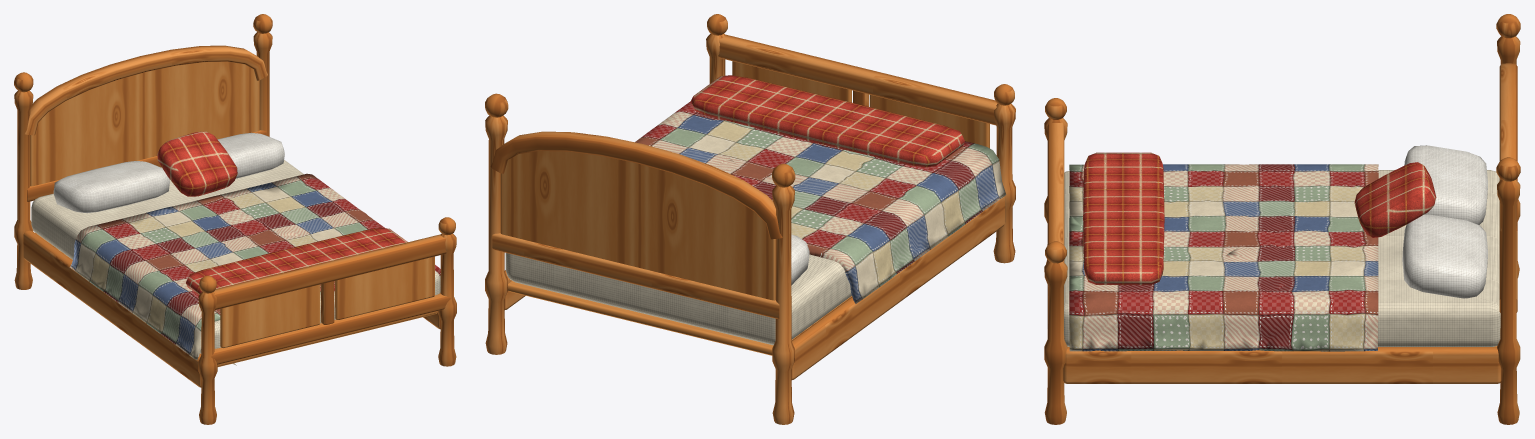
Rendered from double_bed.glb.
The picture shows the model from 3 angles, left to right: view 1: azimuth 30°, elevation 25°; view 2: azimuth 150°, elevation 25°; view 3: azimuth 270°, elevation 25°; orthographic projection. The views are drawn at different scales.
Visible parts, largest first — view 1: model; view 2: model; view 3: model.
Boxes of the visible parts, box(x1,y1,x2,y2) form: model: box(14, 14, 456, 424); model: box(485, 14, 1015, 424); model: box(1044, 14, 1520, 424).
Size of the model in its own units: 1.6 by 1.28 by 2.11.
6 materials, 6 textured.
